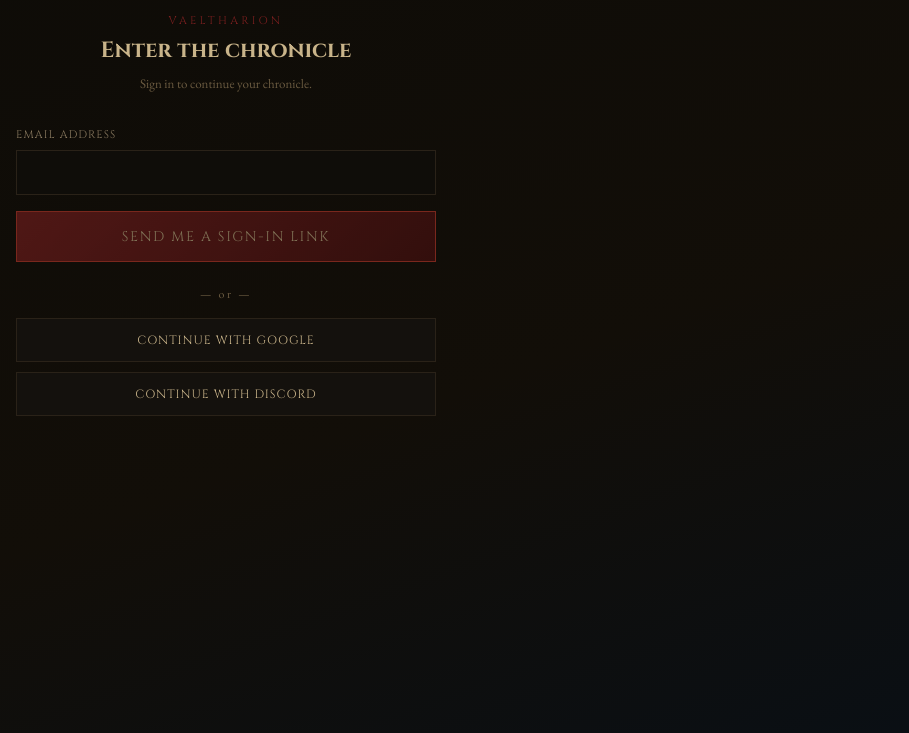
SignIn: sending a link › an email submit shows the check-your-email state
Type " friend@example.com " into the field labelled "Email address".
click(226, 173); type(" friend@example.com ")  # box [16,150,436,195]
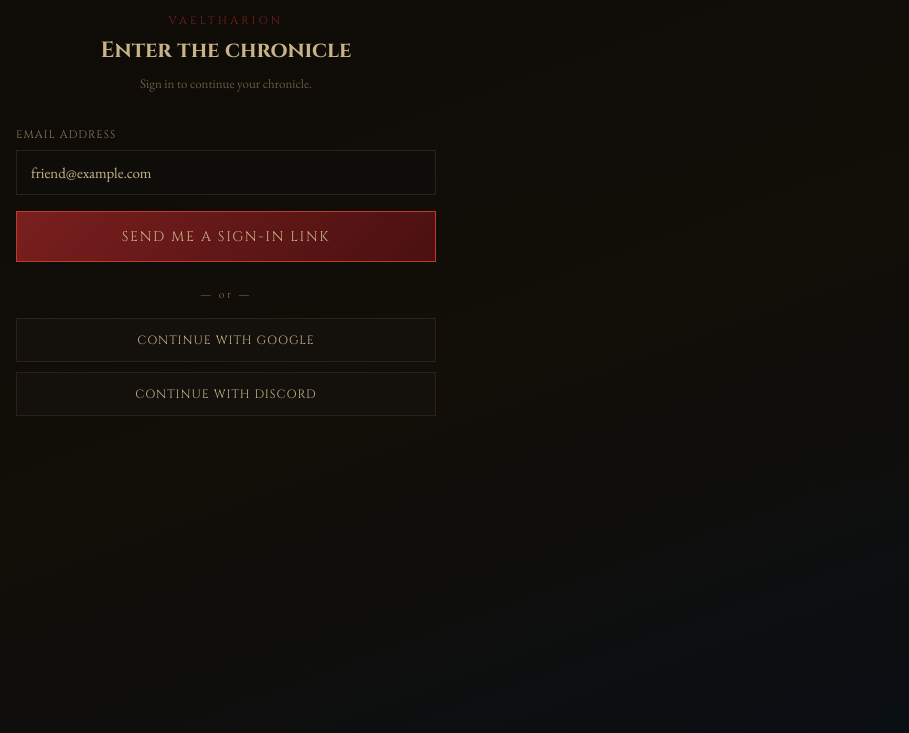
Click the button "Send me a sign-in link".
click(226, 237)  # box [16,211,436,262]
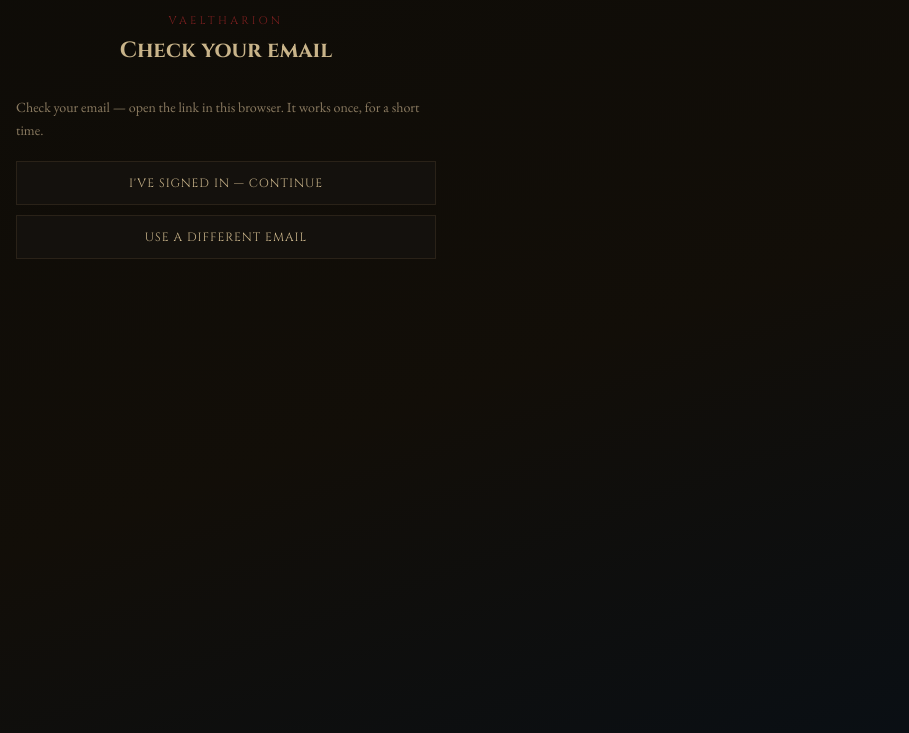
Expected: the text "open the link in this browser" is shown, [16,98,419,139]
